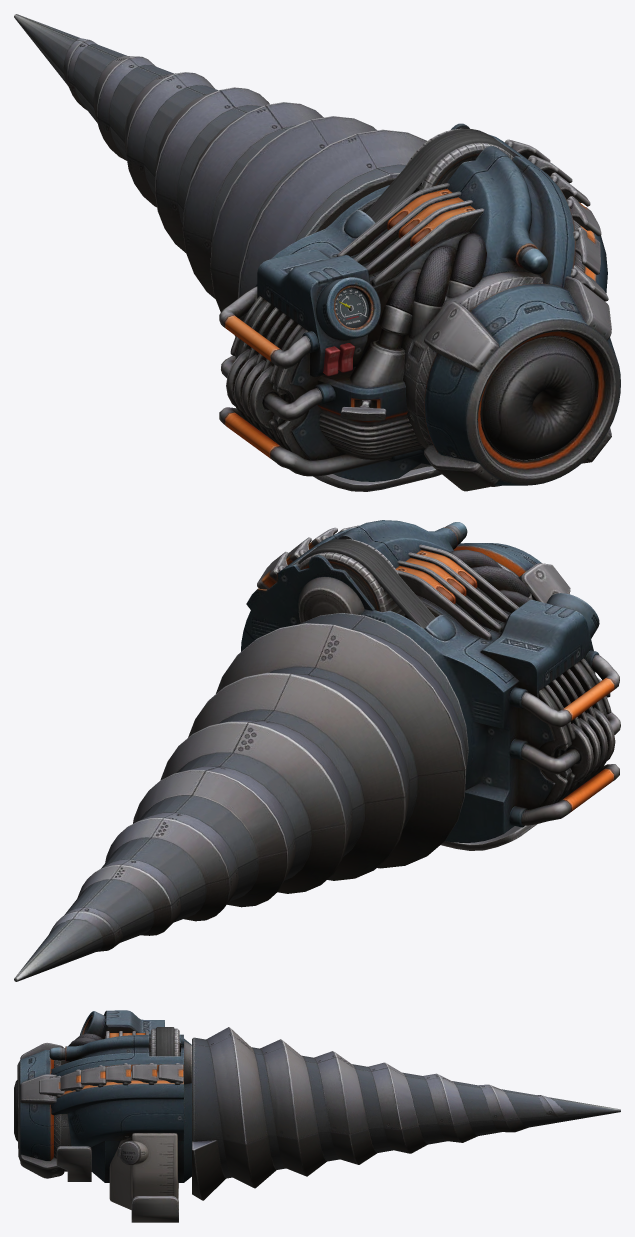
File: enemy_drill.glb
3 views of the same model, one above another, from view 1: azimuth 30°, elevation 25°; view 2: azimuth 150°, elevation 25°; view 3: azimuth 270°, elevation 25° (orthographic). The views are drawn at different scales.
Visible parts, largest first — view 1: Object_15, Object_19; view 2: Object_19, Object_15; view 3: Object_19, Object_15.
Part boxes in pixels (<box>): Object_15: <box>219,123,620,491</box>; Object_19: <box>14,14,426,336</box>; Object_19: <box>14,613,468,981</box>; Object_15: <box>241,520,620,850</box>; Object_19: <box>192,1027,620,1200</box>; Object_15: <box>14,1010,191,1222</box>.
Bounding box in the file's own units: 3.77 × 3 × 9.51.
2 materials, 2 textured.
